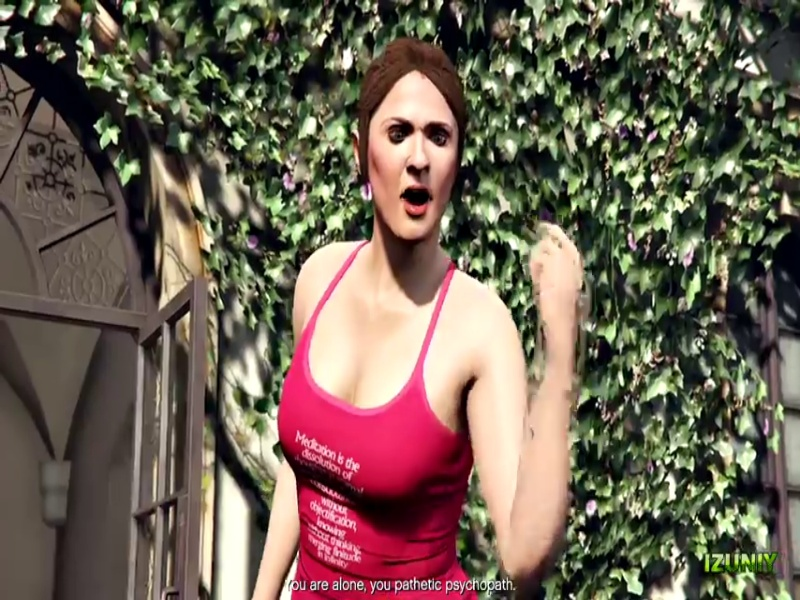human: (277, 36, 581, 595)
